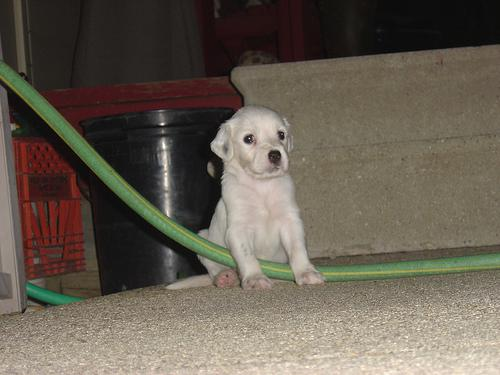dog-english_setter: (209, 104, 292, 176)
